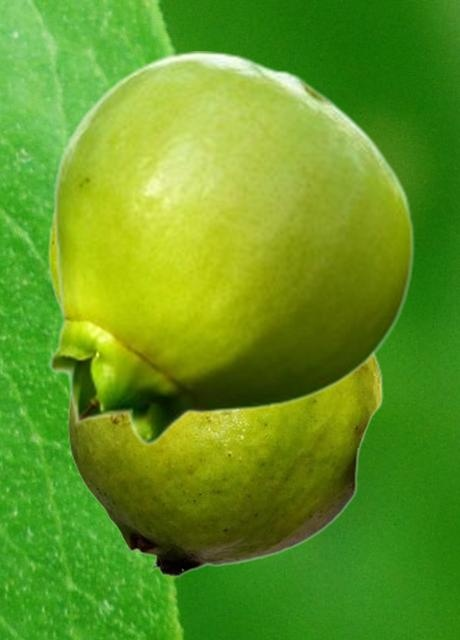guava: (48, 51, 414, 445), (67, 354, 382, 577)
